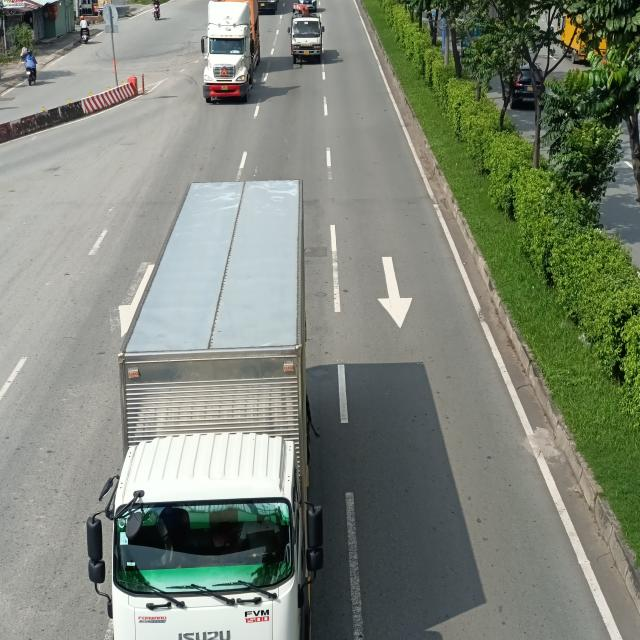container: (202, 0, 262, 107)
truck: (84, 178, 327, 639), (289, 2, 323, 65)
